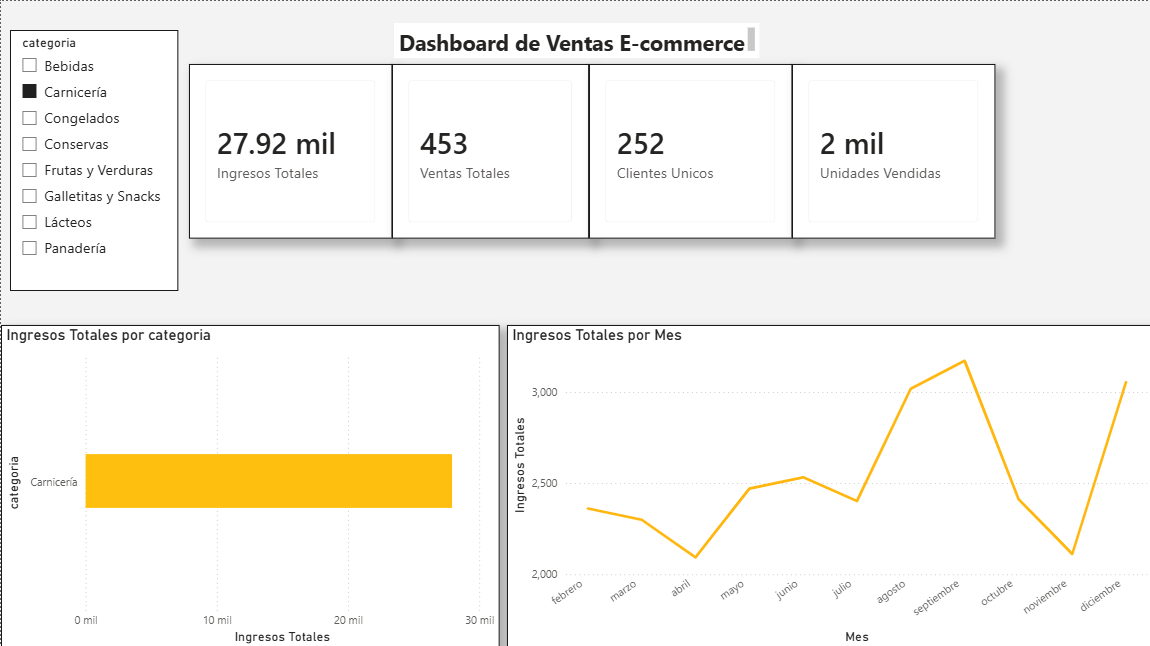

Layout of this report page (visuals, bound fields, positions):
{"tool":"powerbi","page":{"name":"Página 1","canvas":[1280,720],"ordinal":0},"visuals":[{"type":"cardVisual","fields":{"Data":["KPI.Ingresos Totales"]},"box":[208.9,70,225.6,194.4],"z":0},{"type":"cardVisual","fields":{"Data":["KPI.Total Ventas"]},"box":[434.4,70,218.9,194.4],"z":1000},{"type":"cardVisual","fields":{"Data":["KPI.Total Clientes"]},"box":[653.3,70,225.6,194.4],"z":2000},{"type":"barChart","fields":{"Category":["public categorias_productos.categoria"],"Y":["KPI.Ingresos Totales"]},"box":[0,360,554.4,360],"z":3000},{"type":"lineChart","fields":{"Category":["public ventas.fecha.Variación.Jerarquía de fechas.Mes"],"Y":["KPI.Ingresos Totales"]},"box":[562.2,360,717.8,360],"z":4000},{"type":"textbox","box":[436.7,24.4,405.6,38.9],"z":5000},{"type":"cardVisual","fields":{"Data":["KPI.Unidades Vendidas"]},"box":[878.9,70,225.6,194.4],"z":6000},{"type":"slicer","fields":{"Values":["public categorias_productos.categoria"]},"box":[10,32.2,186.7,290],"z":7000}]}

Visuals, with their boxes in screenshot pixels (x1, y1, x2, y2), scaled from the page's 1280x720 canvas onto the 1150x646 screenshot:
cardVisual - KPI.Ingresos Totales: select_region(188, 63, 390, 237)
cardVisual - KPI.Total Ventas: select_region(390, 63, 587, 237)
cardVisual - KPI.Total Clientes: select_region(587, 63, 790, 237)
barChart - public categorias_productos.categoria x KPI.Ingresos Totales: select_region(0, 323, 498, 645)
lineChart - public ventas.fecha.Variación.Jerarquía de fechas.Mes x KPI.Ingresos Totales: select_region(505, 323, 1149, 645)
textbox: select_region(392, 22, 757, 57)
cardVisual - KPI.Unidades Vendidas: select_region(790, 63, 992, 237)
slicer - public categorias_productos.categoria: select_region(9, 29, 177, 289)
